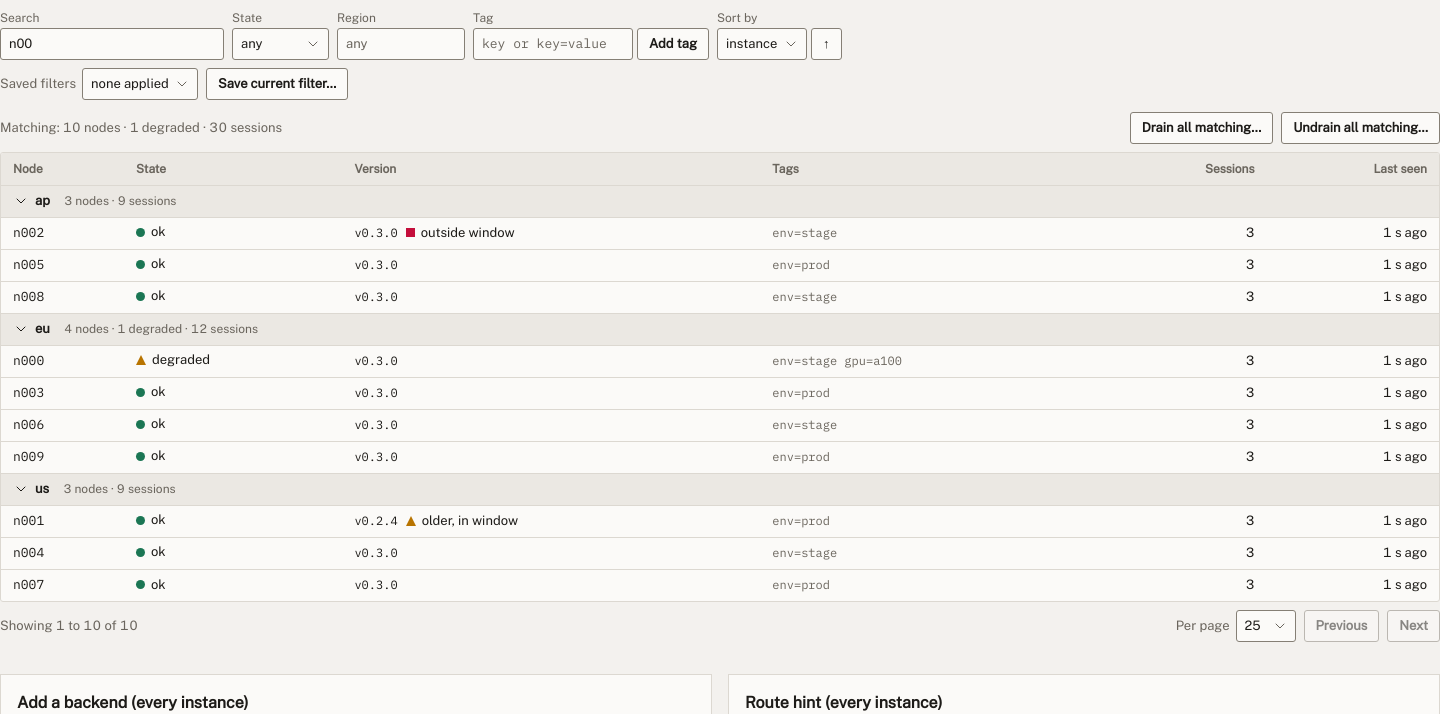
Test: Fleet page inspector › opens a node from its row, keeps it in the URL and closes on Escape
Click the row "n001 ok v0.2.4 older, in window env=prod 3 1 s ago" at (720, 521), box [1,505,1439,537]
(page scrolled)
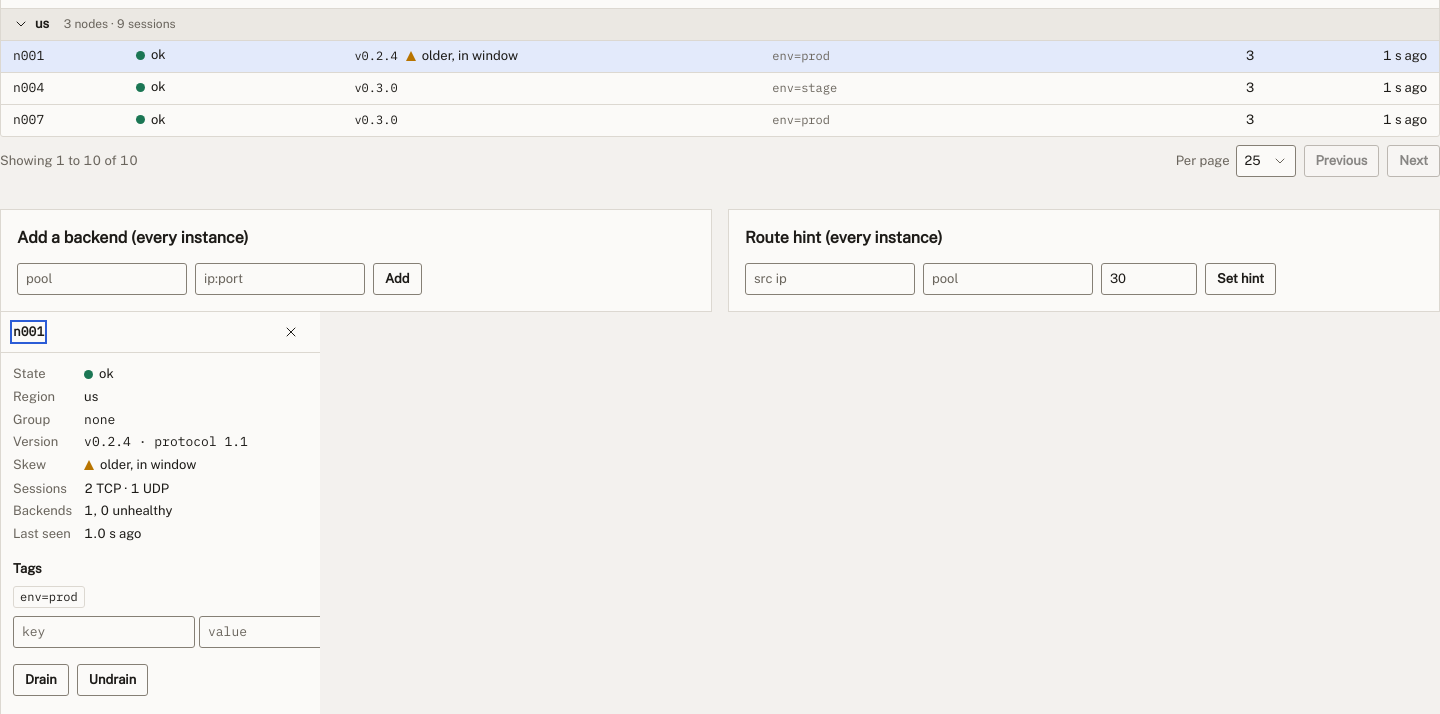
Expected: the text "n001" is shown, [13,47,44,64]
Result: the heading "n001" is shown at [13,323,44,341]
Result: the element named "Details" shows "v0.2.4 · protocol 1.1" at [84,434,248,450]
Press Escape
(page scrolled)
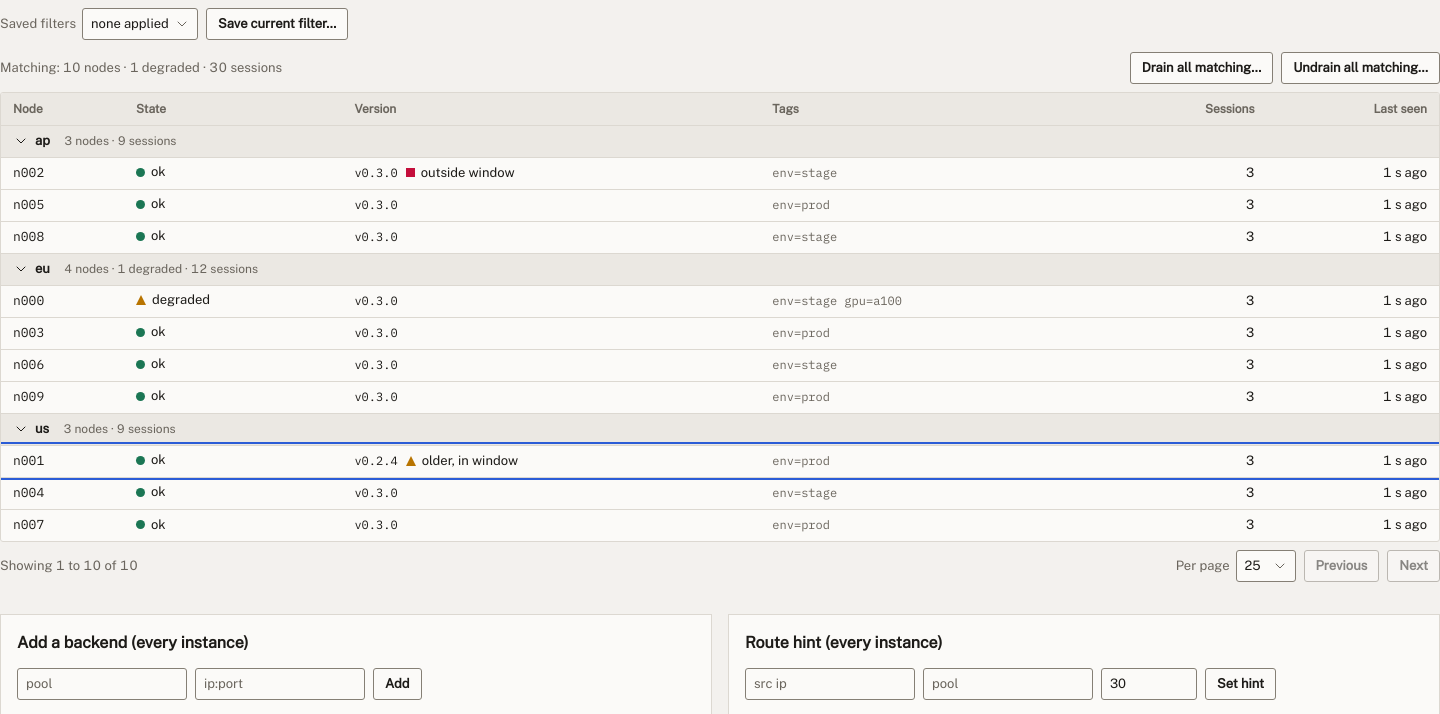
Result: the button "Details" is gone
